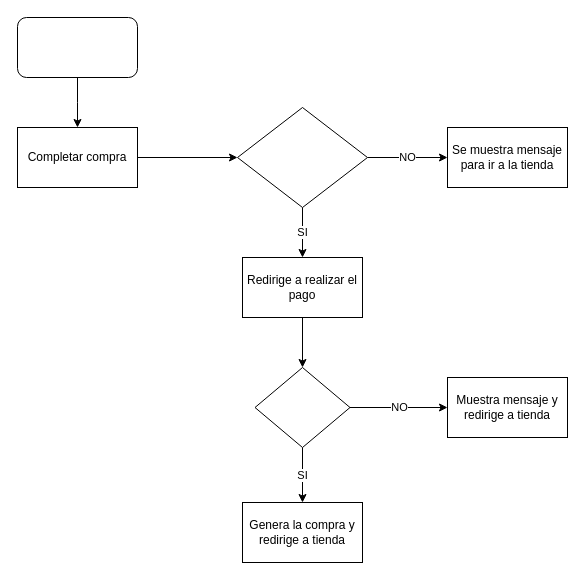
The diagram is 585 pixels wide and 580 high, and some of its shapes have lost their labels. Here are the shapes that lost their labels. From the top down, the box of each, then its label:
(16, 16, 138, 78): Inicio
(236, 106, 368, 208): Hay productos en carrito?
(254, 366, 350, 448): Pago exitoso?
